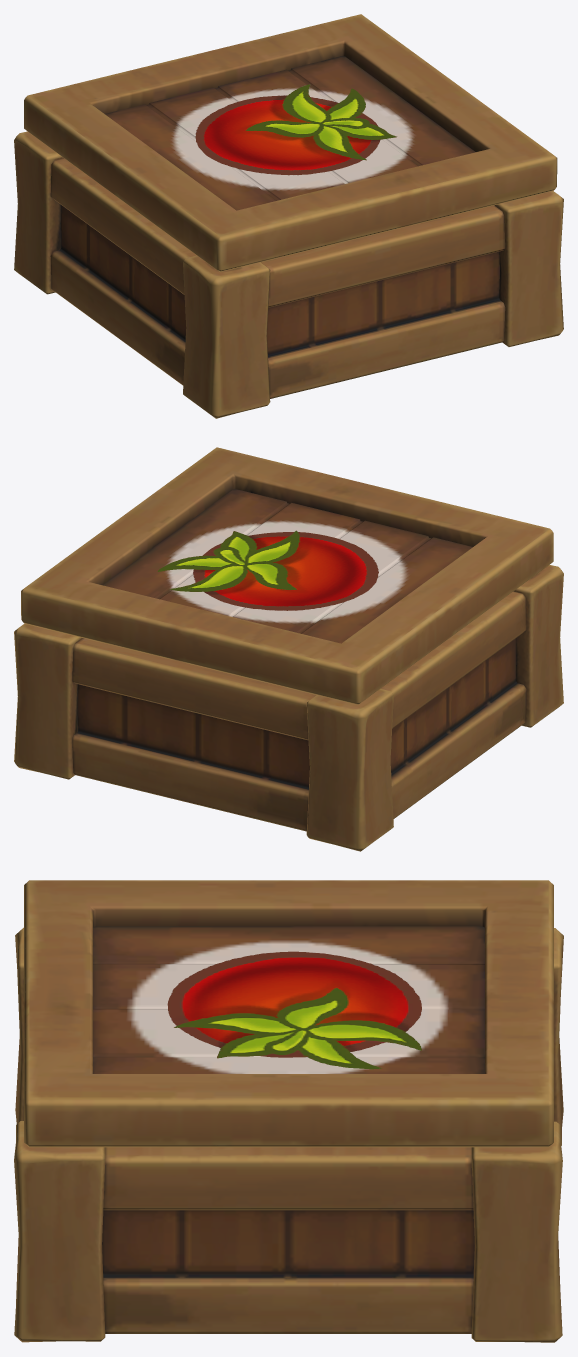
The model's file is crate.FBX.
3 views of the same model, one above another, from view 1: azimuth 30°, elevation 25°; view 2: azimuth 150°, elevation 25°; view 3: azimuth 270°, elevation 25° (orthographic). The views are drawn at different scales.
Visible parts, largest first — view 1: m_sk_crate_01_0, m_sk_crate_01_1; view 2: m_sk_crate_01_0, m_sk_crate_01_1; view 3: m_sk_crate_01_0, m_sk_crate_01_1.
Part boxes in pixels (x1,y1,x2,y2): m_sk_crate_01_0: [14, 14, 563, 418]; m_sk_crate_01_1: [195, 84, 397, 175]; m_sk_crate_01_0: [14, 447, 563, 851]; m_sk_crate_01_1: [157, 530, 378, 610]; m_sk_crate_01_0: [14, 880, 563, 1342]; m_sk_crate_01_1: [167, 951, 421, 1069].
Bounding box in the file's own units: 1.04 × 0.5025 × 1.04.
